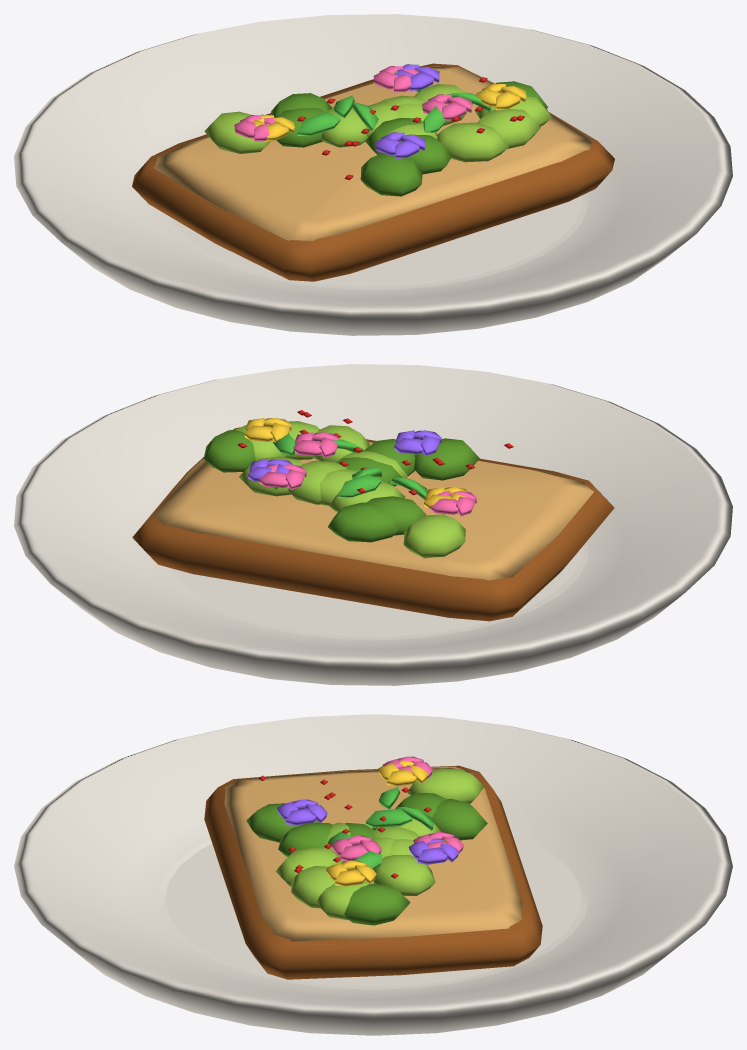
The picture shows the model from 3 angles, top to bottom: view 1: azimuth 30°, elevation 25°; view 2: azimuth 150°, elevation 25°; view 3: azimuth 270°, elevation 25°; orthographic projection.
Visible parts, largest first — view 1: plate, toast, crust, avocado, plate_well, petals, microgreens, chili; view 2: plate, toast, crust, avocado, plate_well, petals, microgreens, chili; view 3: plate, toast, crust, avocado, plate_well, petals, microgreens.
Boxes of the visible parts, x1,y1,x2,y2 form: plate: (14, 14, 732, 335); toast: (153, 66, 593, 240); crust: (132, 63, 614, 281); avocado: (204, 81, 551, 196); plate_well: (170, 196, 581, 286); petals: (234, 64, 526, 158); microgreens: (297, 71, 491, 136); chili: (297, 77, 524, 179); plate: (14, 364, 732, 685); toast: (153, 442, 593, 580); crust: (132, 427, 614, 621); avocado: (204, 421, 479, 558); plate_well: (170, 548, 581, 636); petals: (244, 417, 476, 516); microgreens: (270, 433, 427, 500); chili: (237, 410, 513, 495); plate: (14, 714, 732, 1035); toast: (224, 766, 522, 943); crust: (204, 765, 542, 979); avocado: (246, 768, 487, 925); plate_well: (165, 833, 581, 986); petals: (277, 756, 463, 886); microgreens: (328, 787, 444, 869).
Bounding box in the file's own units: 0.2 × 0.0353 × 0.2.
